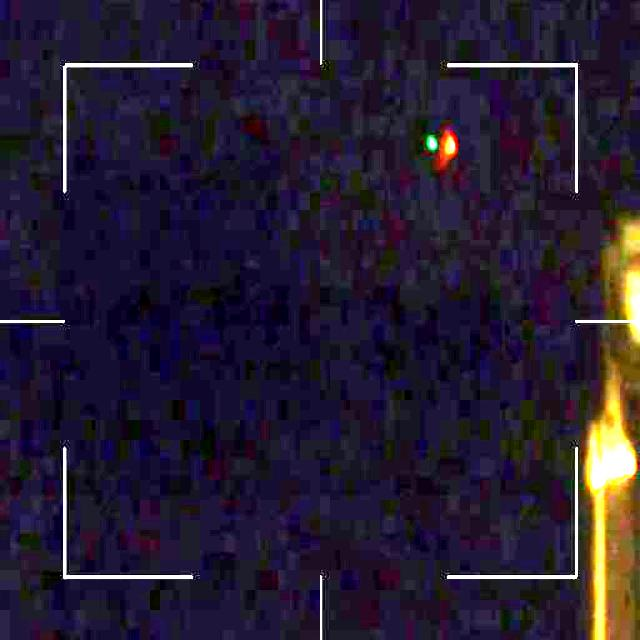bird: (424, 128, 455, 168)
